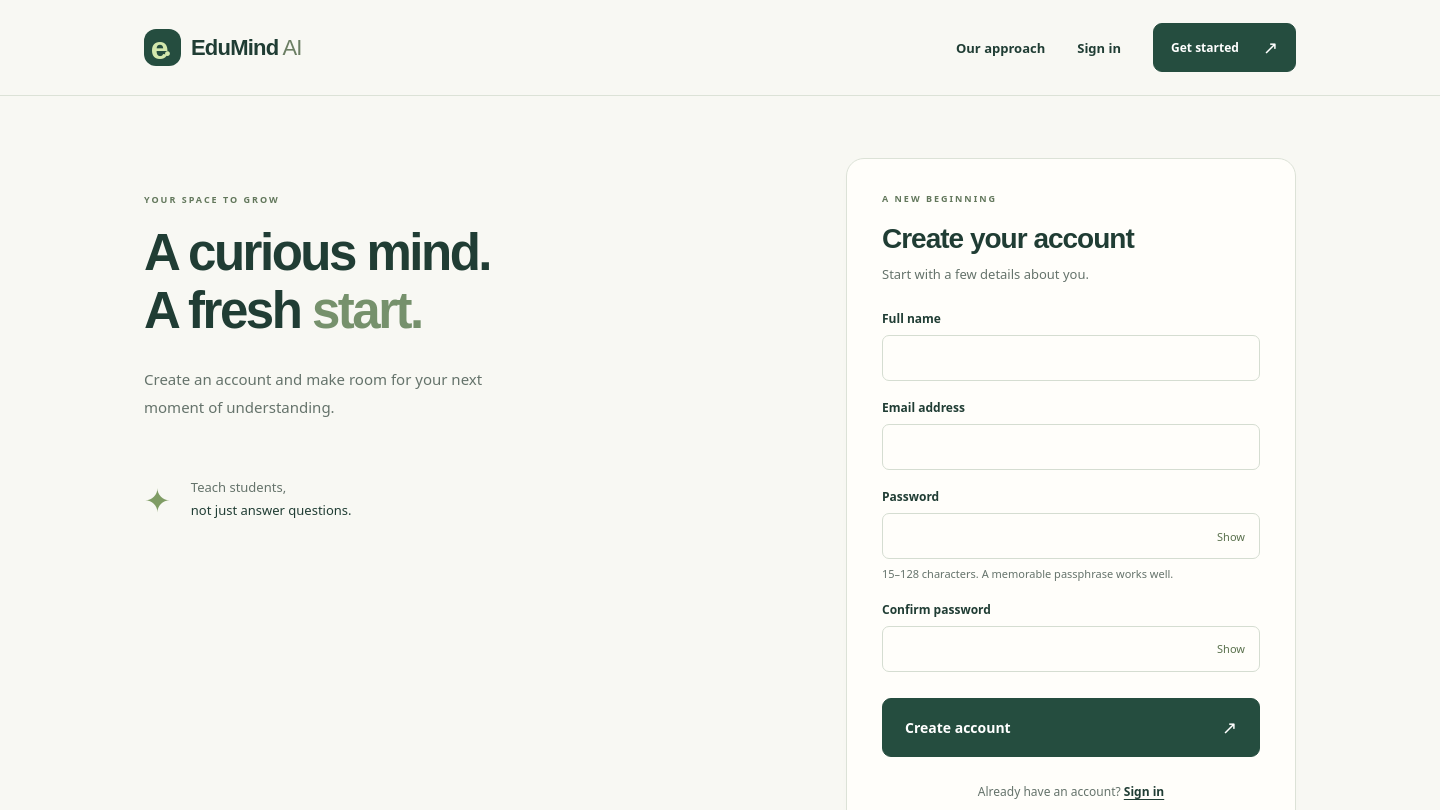
Test: registers and directs the student to sign in with a confirmation
Type "learner@example.com" into the field labelled "Email address". click: (1071, 448)
box: [882, 424, 1260, 470]
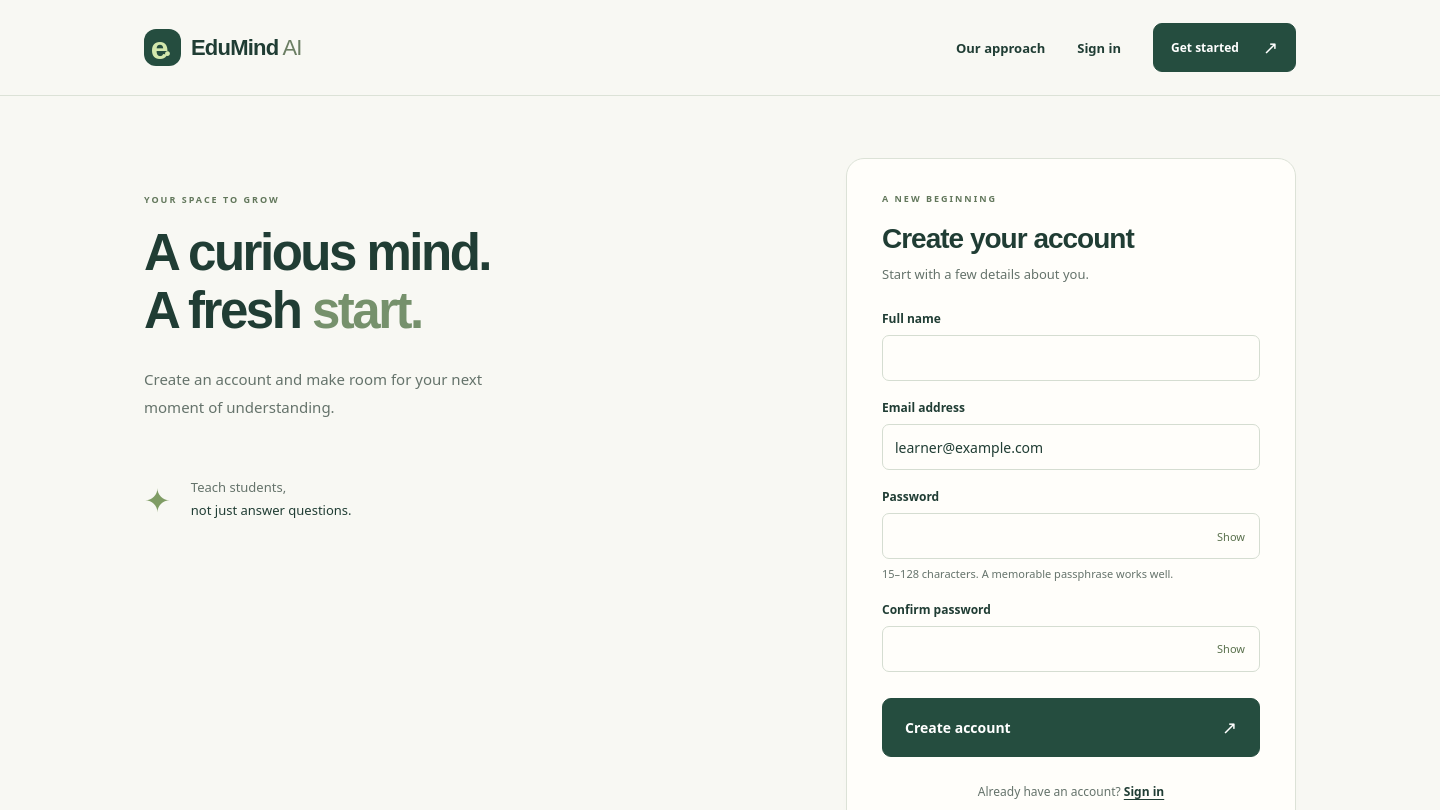
Type "A long learning passphrase!" into the password field labelled "Password". click: (1071, 536)
box: [882, 514, 1260, 560]
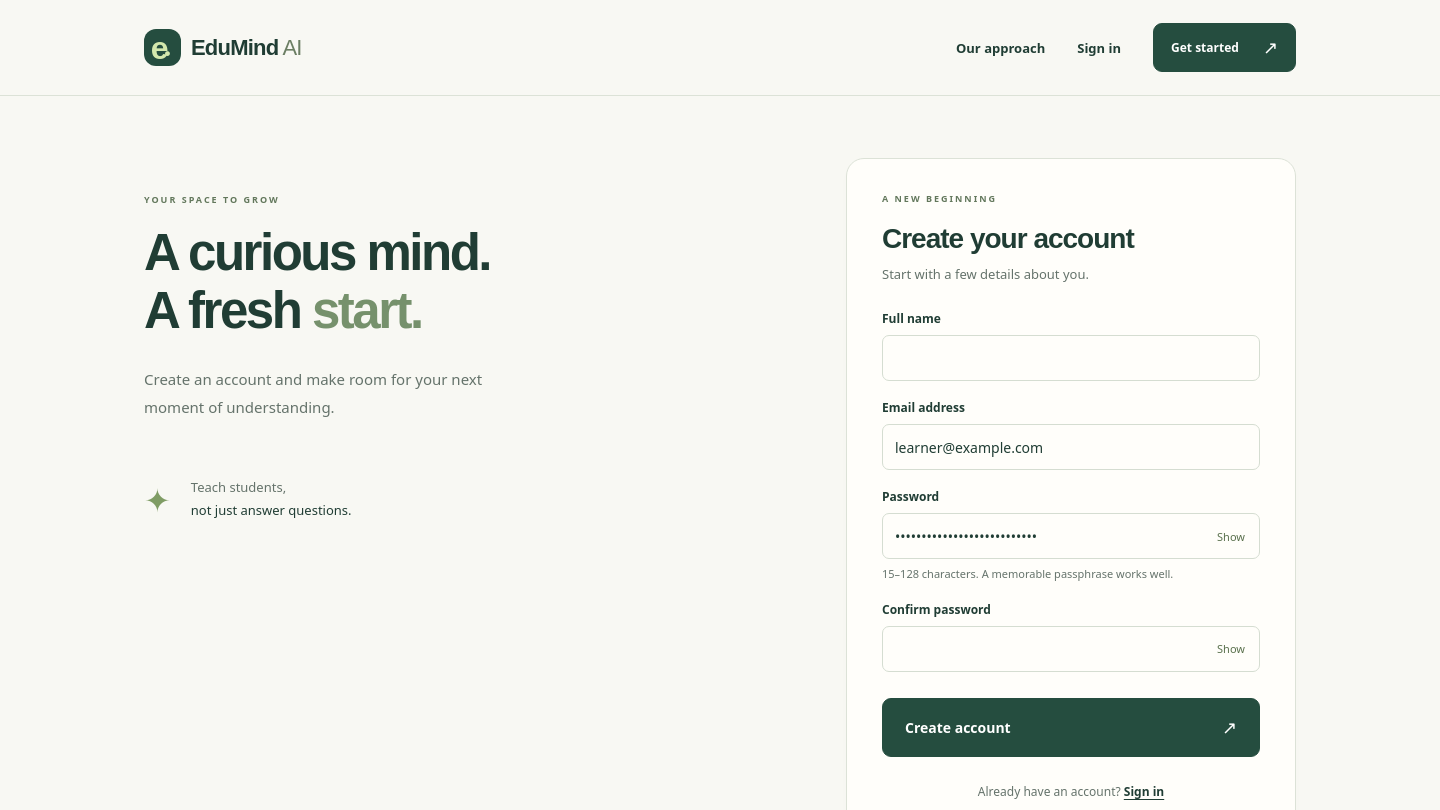
Type "Test Learner" into the field labelled "Full name". click: (1071, 358)
box: [882, 336, 1260, 382]
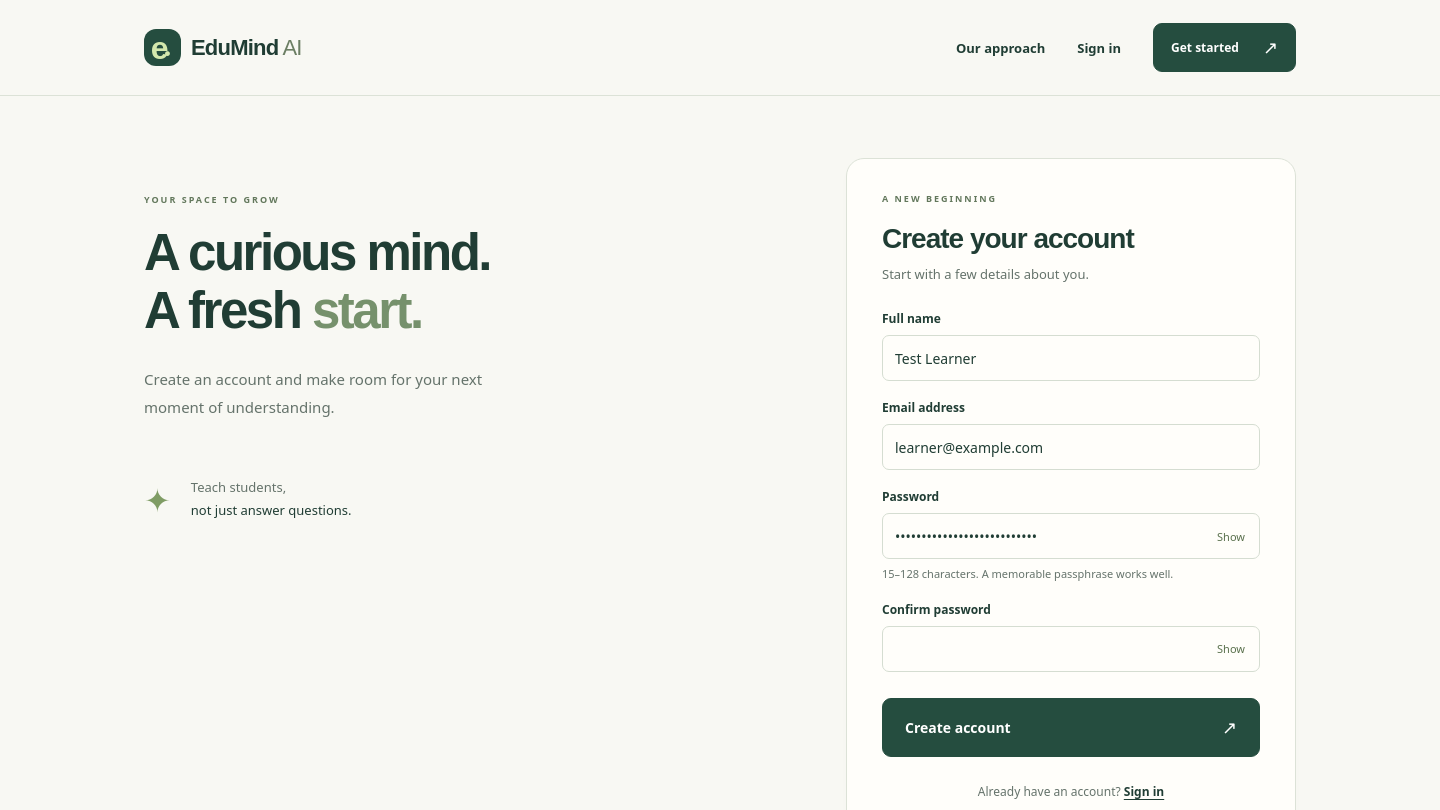
Type "A long learning passphrase!" into the password field labelled "Confirm password". click: (1071, 649)
box: [882, 626, 1260, 672]
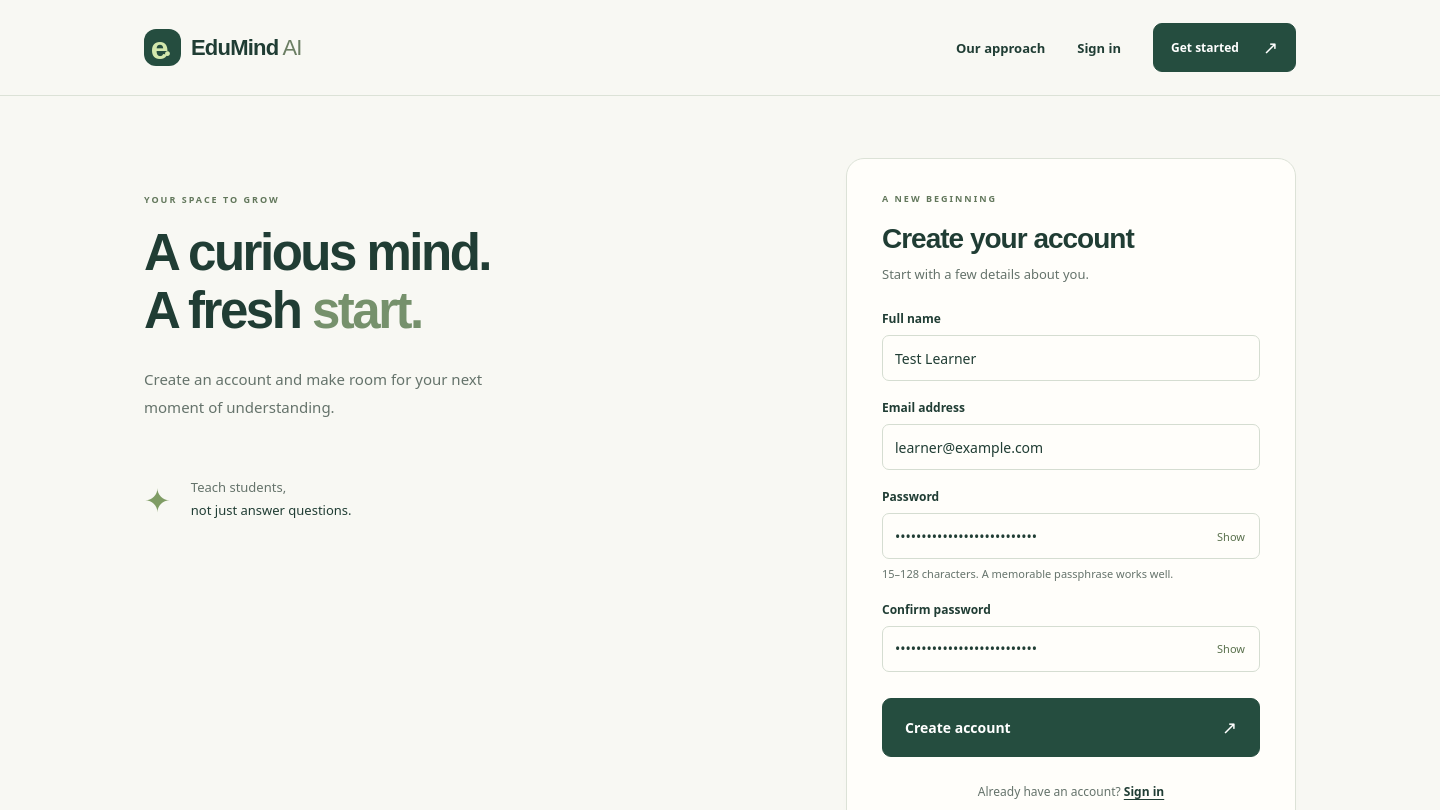
Click the button "Create account ↗". click: (958, 727)
box: [882, 698, 1260, 757]
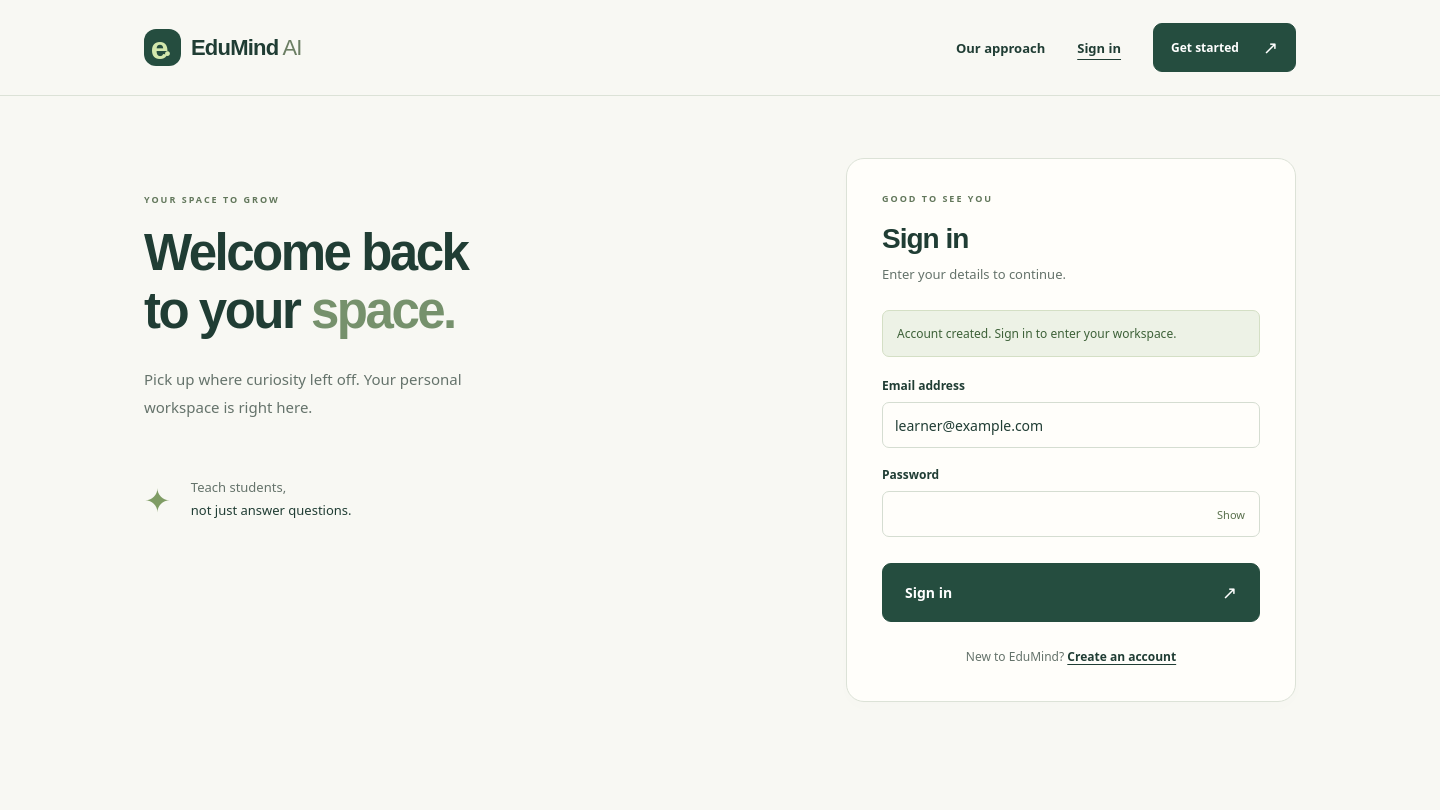
Expected: the field labelled "Email address" holds "learner@example.com", [882, 402, 1260, 448]
Expected: the text "Account created. Sign in to enter your workspace." is shown, [882, 310, 1260, 358]
